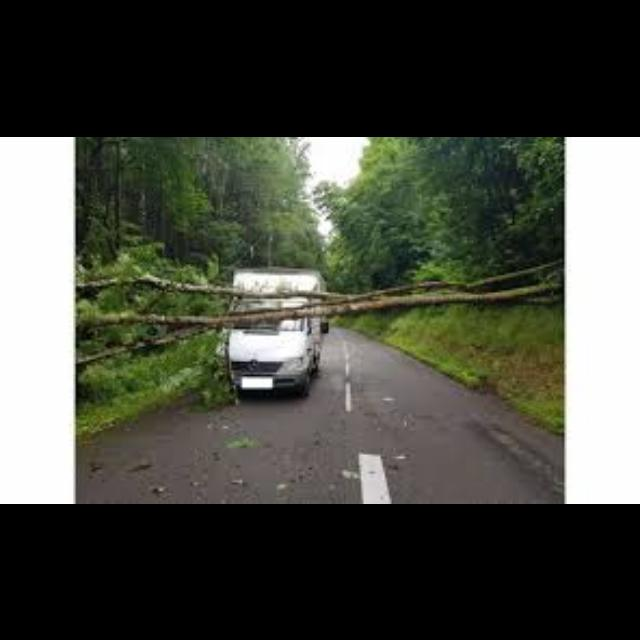Fallen Tree: (78, 254, 610, 334)
